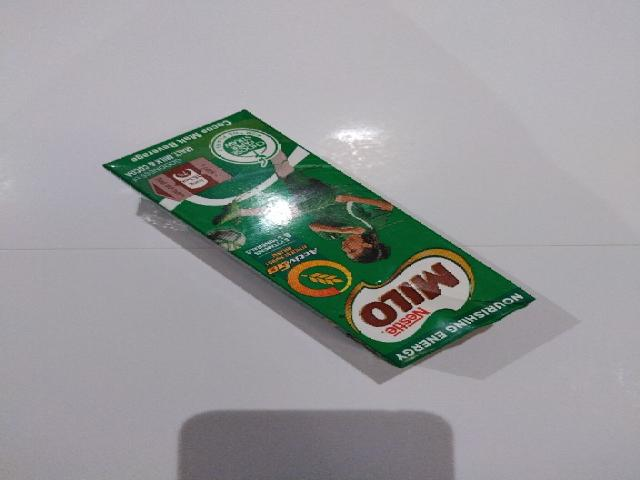drink_box: (99, 107, 538, 369)
